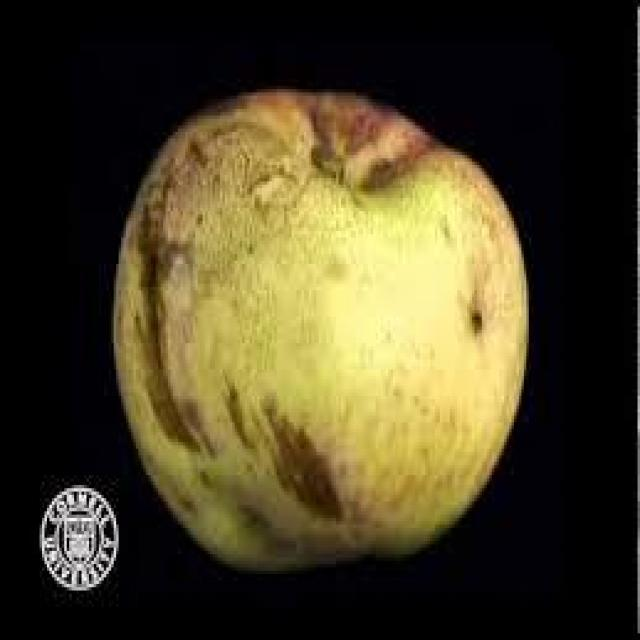Rotten: (116, 101, 524, 572)
